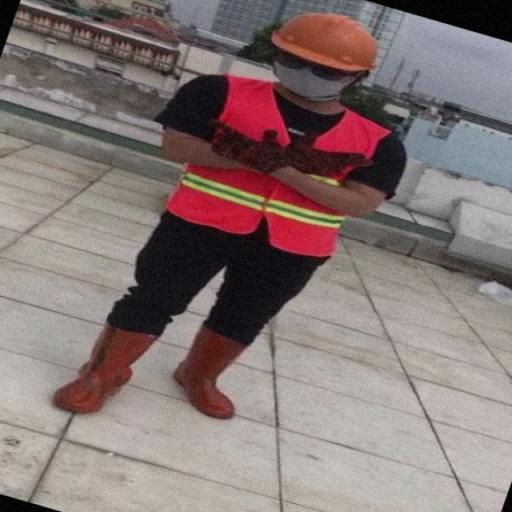Person: (35, 6, 454, 426)
boots: (52, 322, 164, 417), (168, 322, 242, 421)
gloves: (201, 112, 289, 176), (284, 132, 374, 176)
goggles: (245, 45, 371, 80)
helmet: (269, 8, 379, 74)
vest: (150, 68, 403, 265)
